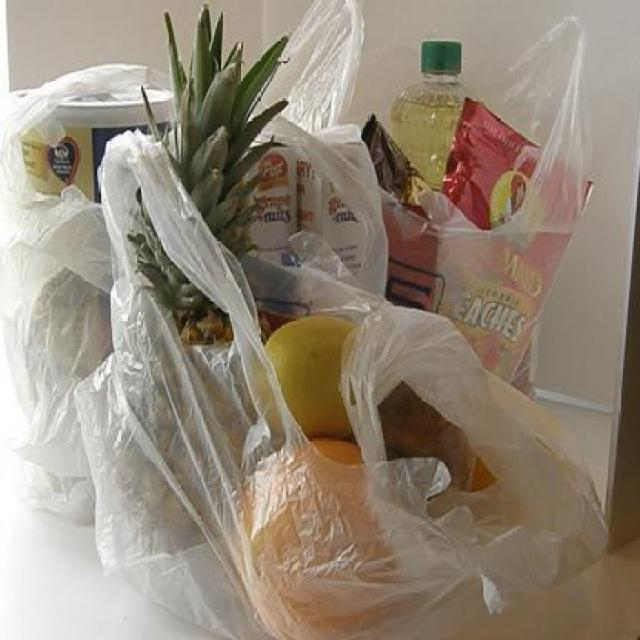plastic bag: (2, 9, 620, 638)
